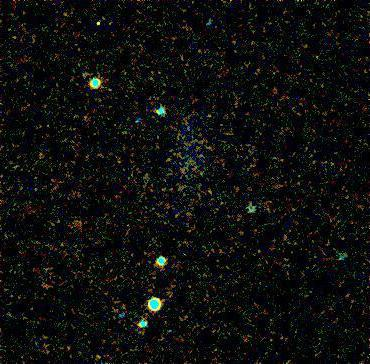star: (83, 7, 113, 37)
